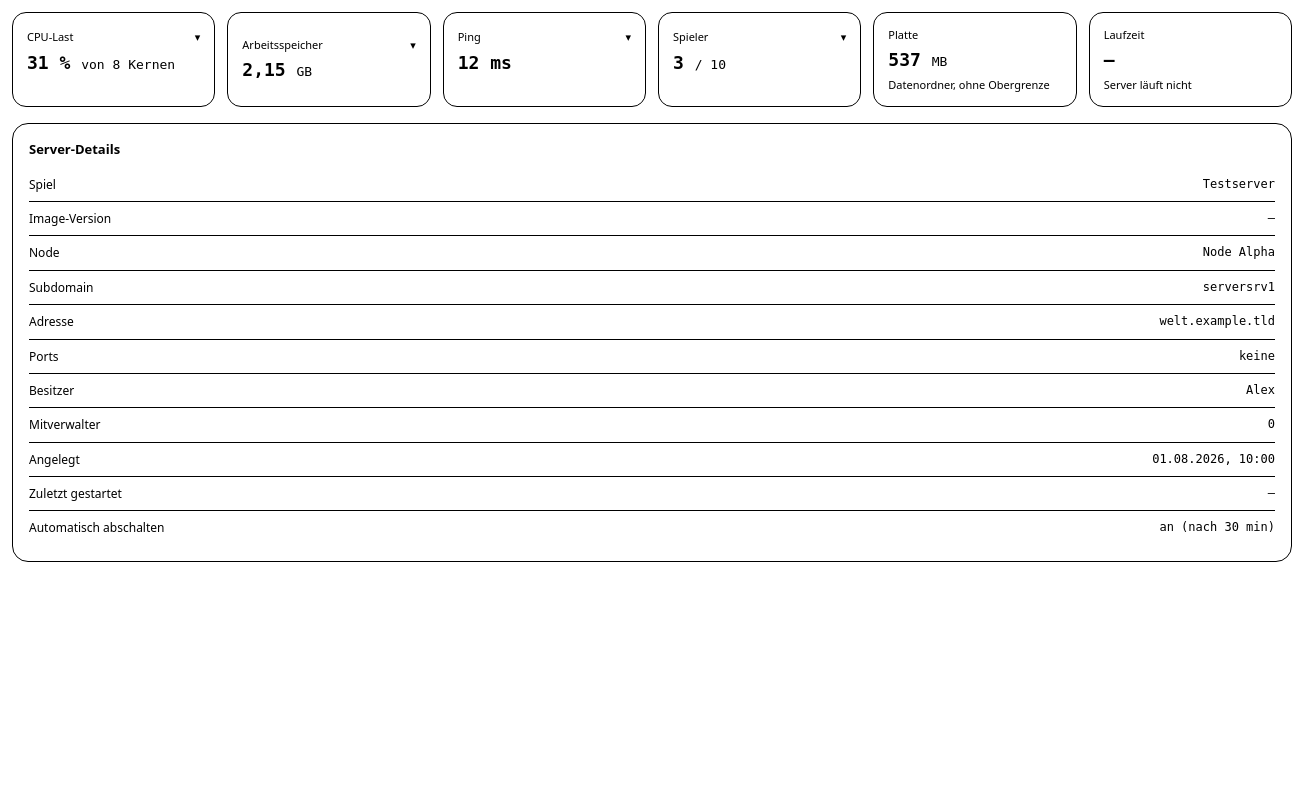
Test: OverviewTab – Kacheln im hafenmeister-Stil › klappt den CPU-Verlauf unter den Kacheln auf und wieder zu
Click the button "CPU-Last ▾ 31 % von 8 Kernen" at (114,60), box [12,12,215,107]
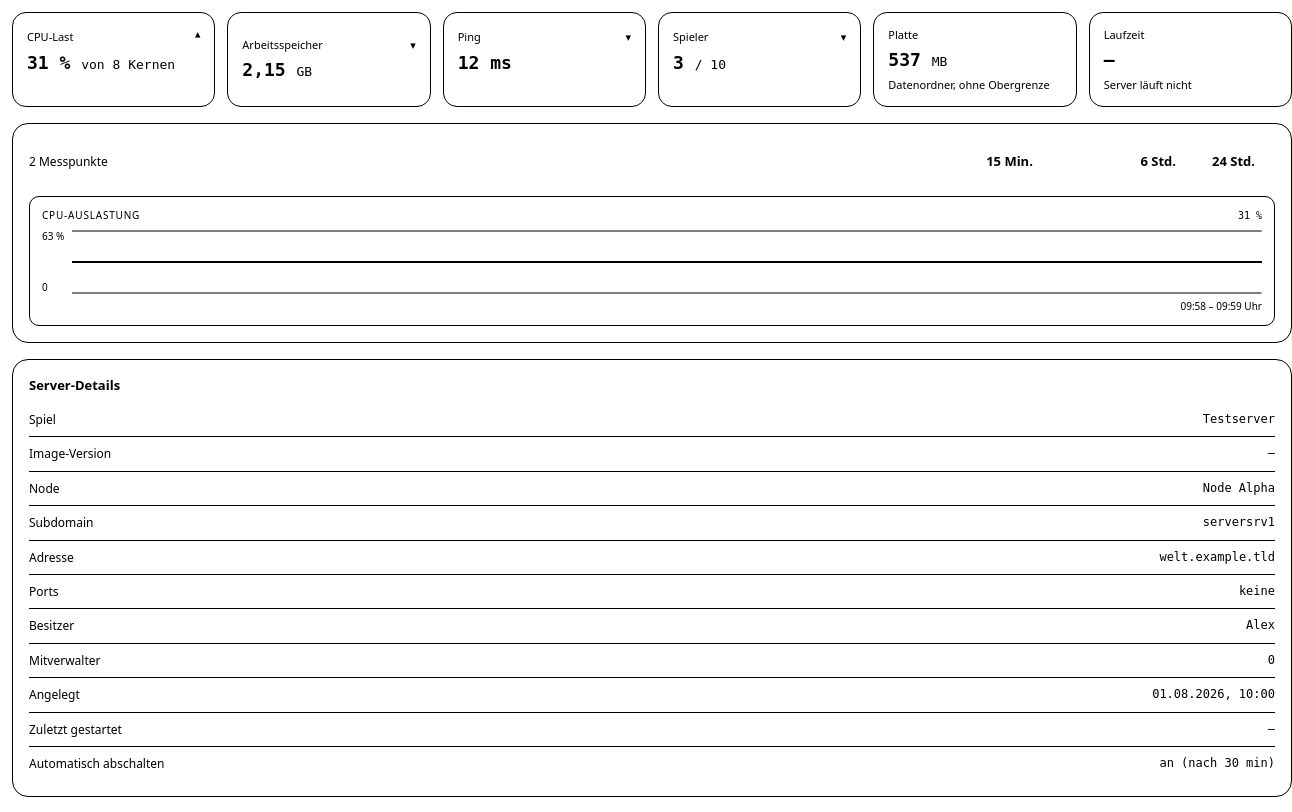
Now the text "CPU-Auslastung" is shown, box [42,209,140,222]
Click the button "CPU-Last ▾ 31 % von 8 Kernen" at (114,60), box [12,12,215,107]
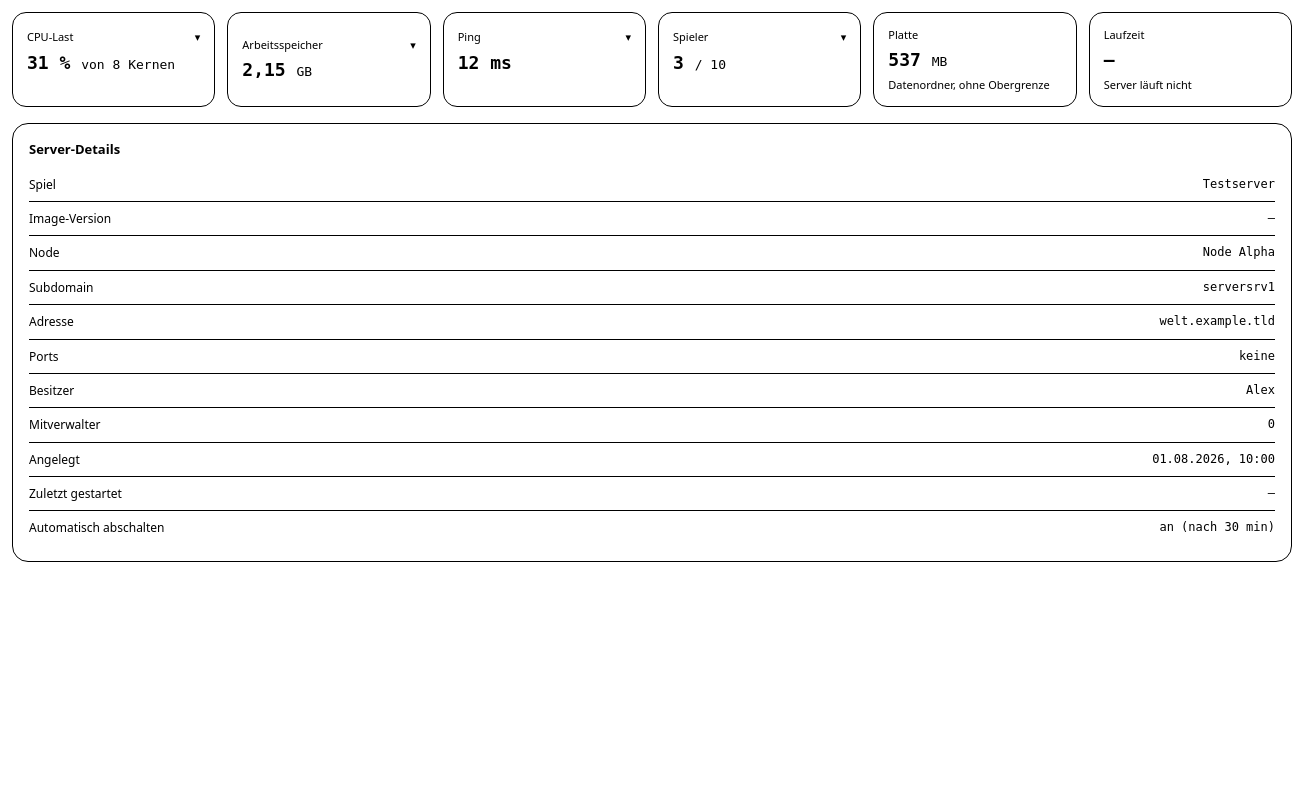
Now the text "CPU-Auslastung" is gone
